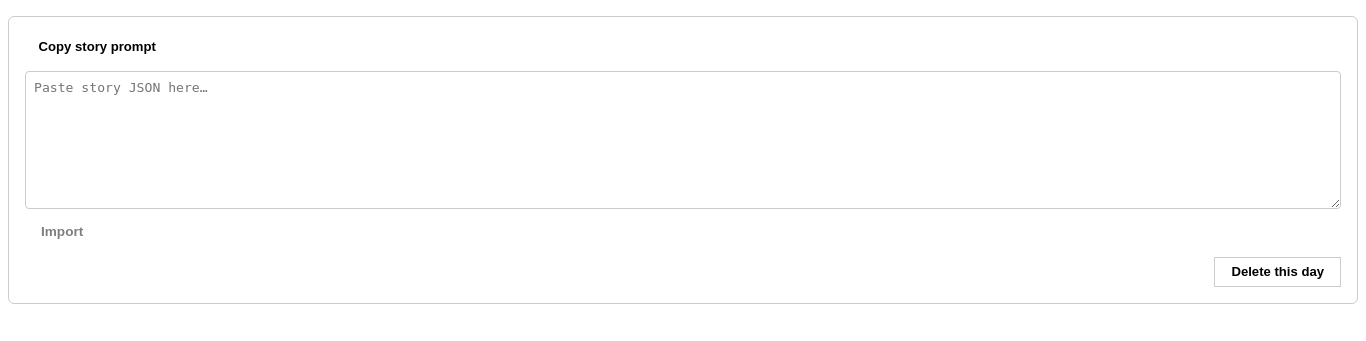
Test: ManualStoryPanel › copy failure surfaces error message
Click the button "Copy story prompt" at (97, 46), box [25,33,170,59]
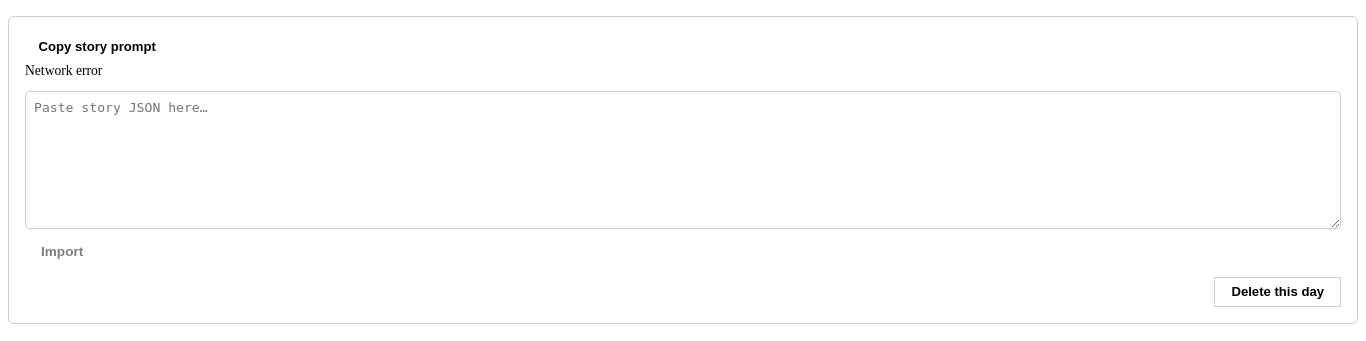
Expected: the text "Network error" is shown, [25,63,102,78]
